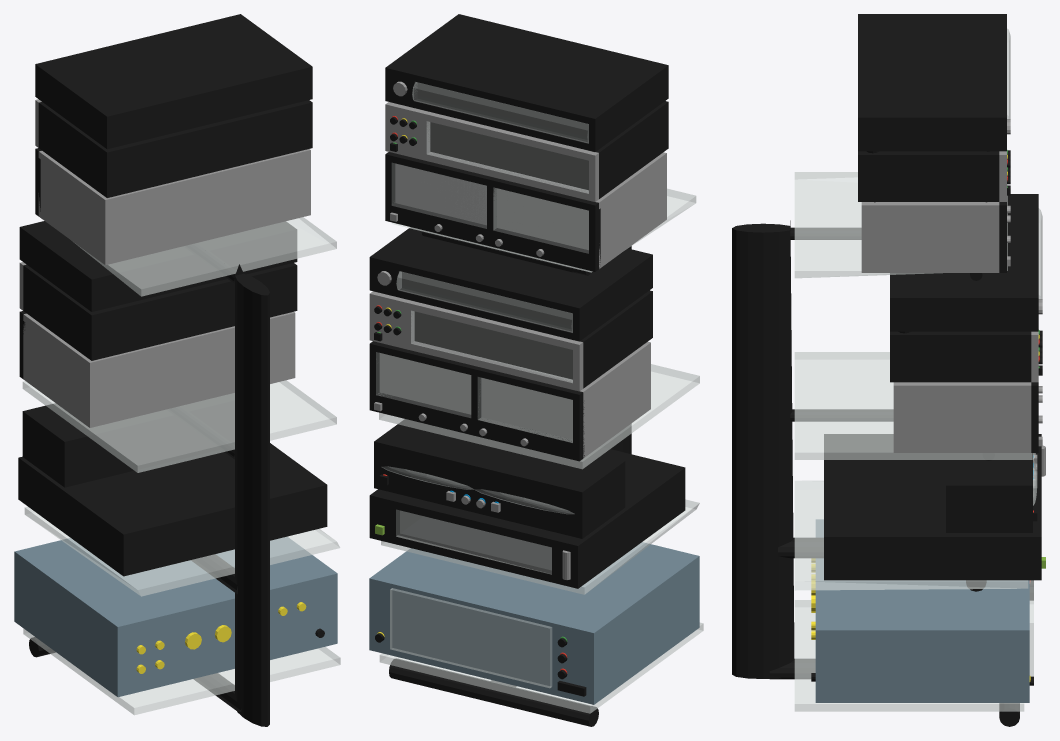
File: rackunit.glb
The picture shows the model from 3 angles, left to right: view 1: azimuth 30°, elevation 25°; view 2: azimuth 150°, elevation 25°; view 3: azimuth 270°, elevation 25°; orthographic projection. The views are drawn at different scales.
Visible parts, largest first — view 1: group873358124, group1853406276, group1671304846, group12601911, group1917107288; view 2: group873358124, group1671304846, group1917107288, group12601911, group1853406276; view 3: group1853406276, group873358124, group1671304846, group12601911, group1917107288.
Part boxes in pixels (left/top/right/bottom): group873358124: left=35, top=14, right=312, bottom=265; group1853406276: left=22, top=217, right=340, bottom=726; group1671304846: left=19, top=221, right=297, bottom=427; group12601911: left=18, top=393, right=327, bottom=576; group1917107288: left=14, top=537, right=337, bottom=697; group873358124: left=385, top=14, right=668, bottom=271; group1671304846: left=369, top=227, right=652, bottom=461; group1917107288: left=369, top=542, right=699, bottom=704; group12601911: left=369, top=419, right=685, bottom=588; group1853406276: left=379, top=188, right=703, bottom=726; group1853406276: left=732, top=172, right=1032, bottom=726; group873358124: left=858, top=14, right=1010, bottom=272; group1671304846: left=890, top=194, right=1042, bottom=452; group12601911: left=824, top=434, right=1045, bottom=580; group1917107288: left=811, top=519, right=1033, bottom=702.
Size of the model in its own units: 0.2248 by 0.5796 by 0.2686.
